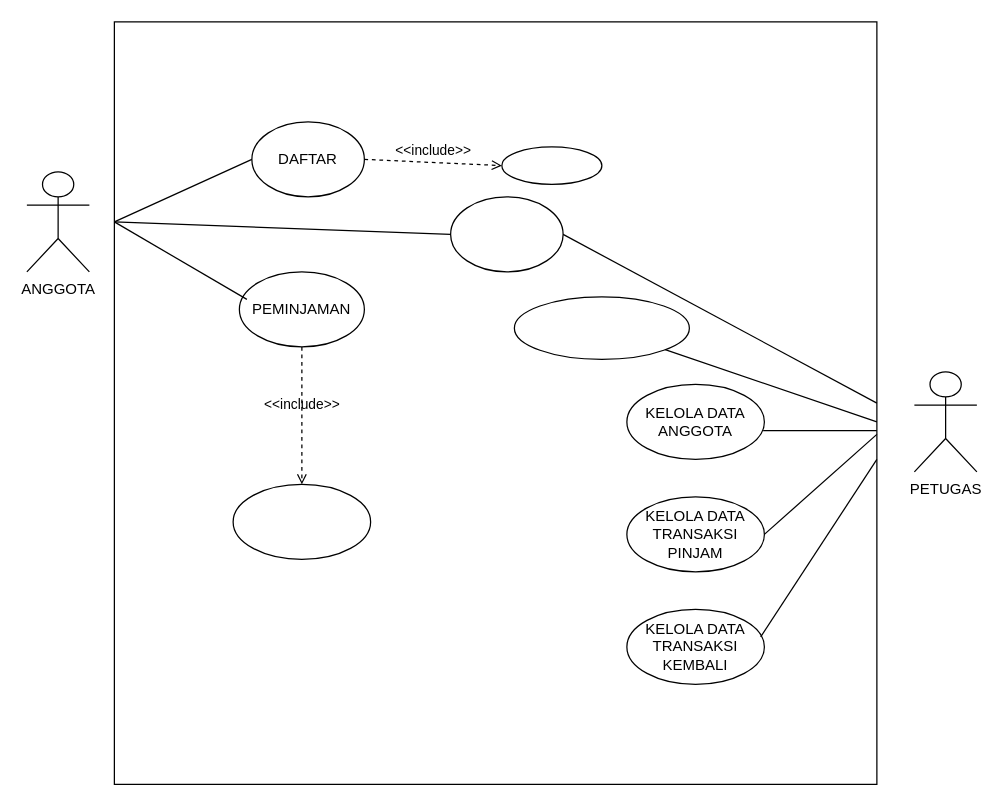
This 1003x806 diagram has some shape labels left out. The shapes that lost their labels are listed below. From the top down, each one's centre as x and y in pixels, then its label:
At pixel 551 165: "KTA".
At pixel 506 234: "LOGIN".
At pixel 601 327: "KELOLA DATA BUKU".
At pixel 301 521: "PEMGEMBALIAN".
